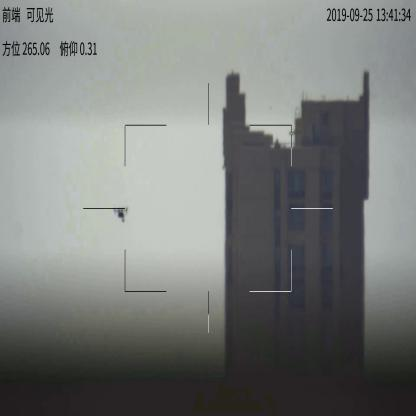uav: (113, 205, 128, 223)
